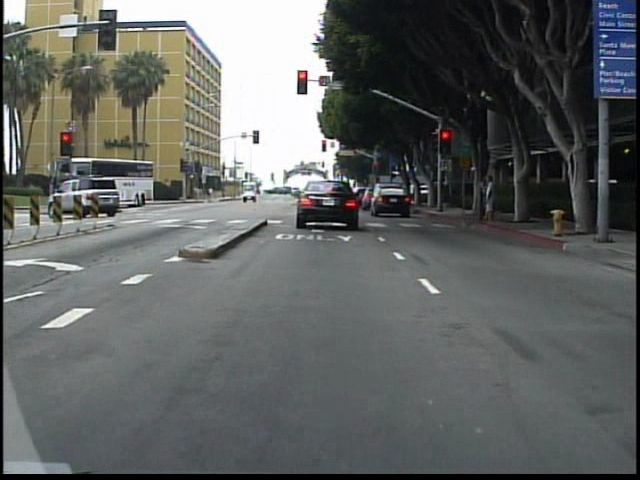person: (477, 169, 497, 223)
